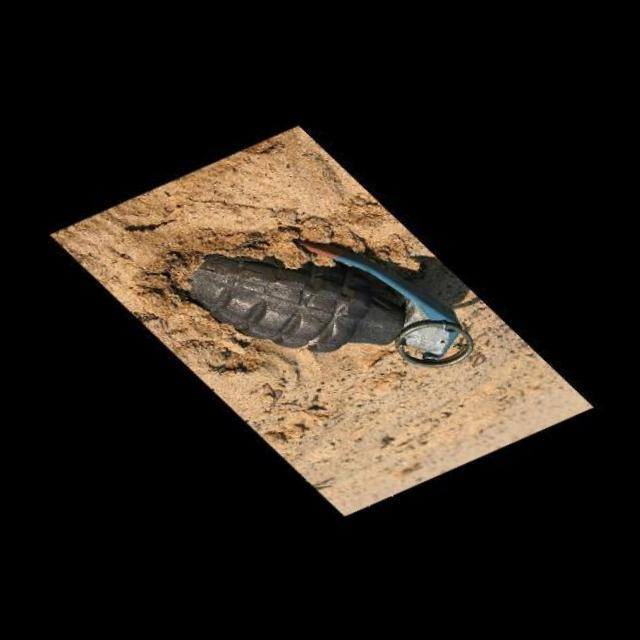grenade: (159, 216, 485, 382)
